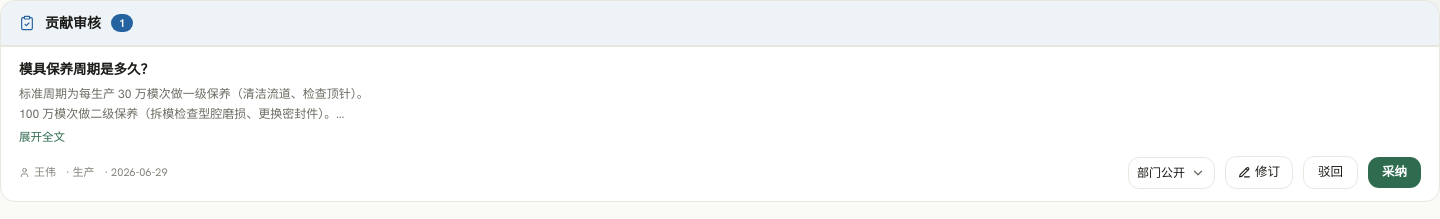
Test case: B2 采纳前修订 › 处理中（isBusy）→ 修订入口同样禁用（与 采纳/驳回 同一把互斥锁）
This screenshot has width=1440, height=219.
Click the button "采纳" at (1394, 173), box [1368,157,1421,188]
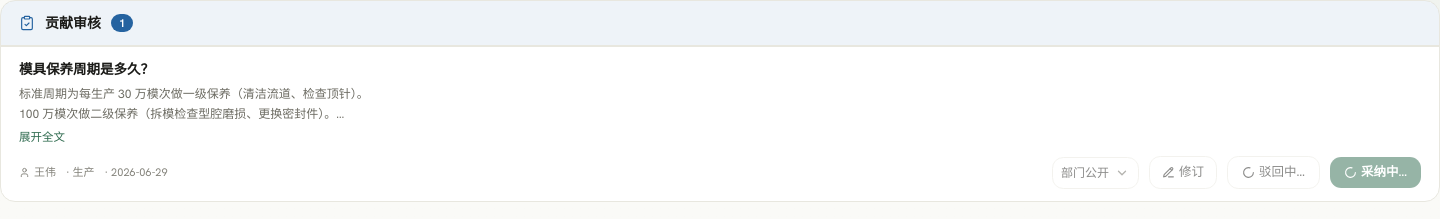
Expected: the button with test id "contrib-revise" is disabled, [1149,156,1217,189]
